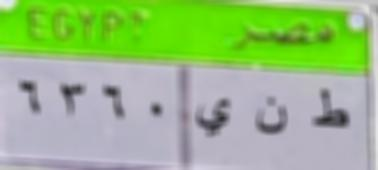0: (146, 94, 175, 130)
3: (56, 82, 91, 121)
6: (95, 83, 138, 118), (16, 77, 46, 118)
Taa: (303, 84, 353, 136)
noon: (252, 96, 292, 141)
yaa: (192, 93, 233, 143)
